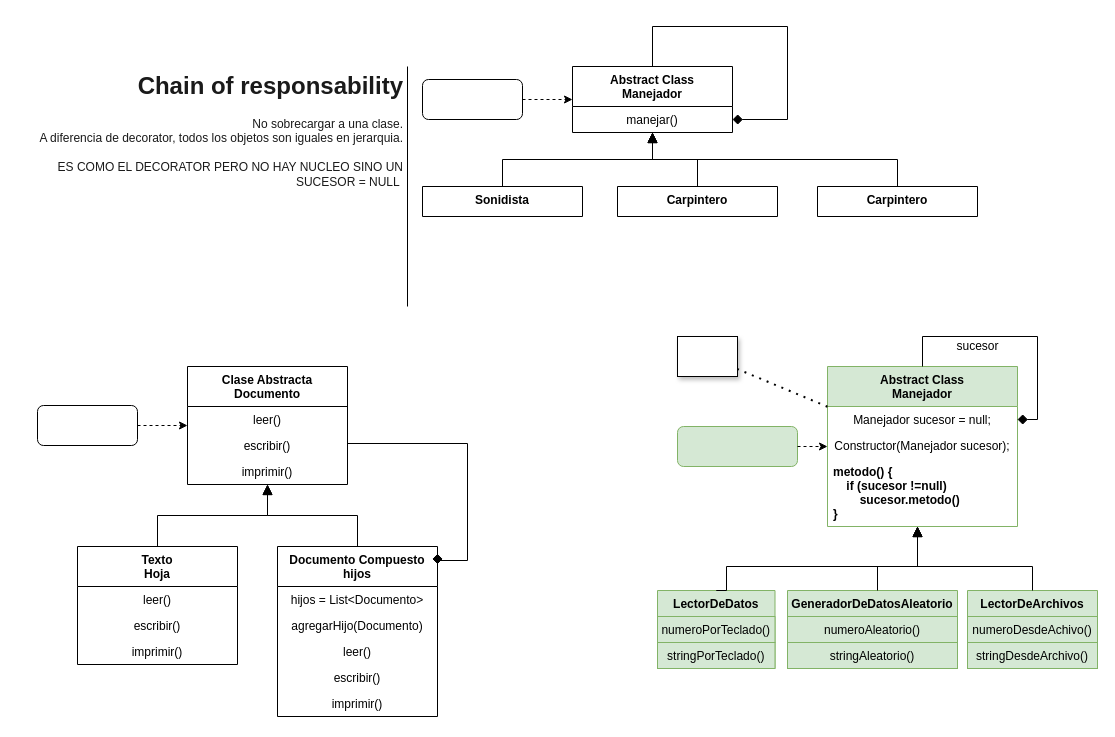
The diagram is 1115 pixels wide and 737 high, and some of its shapes have lost their labels. Each missing label, with the centre of its shape:
CLIENTE: point 87,425
CLIENTE EVENTO: point 472,99
ObtenerDatos static crearCadena(): point 737,446
todos los metodos: point 708,358
